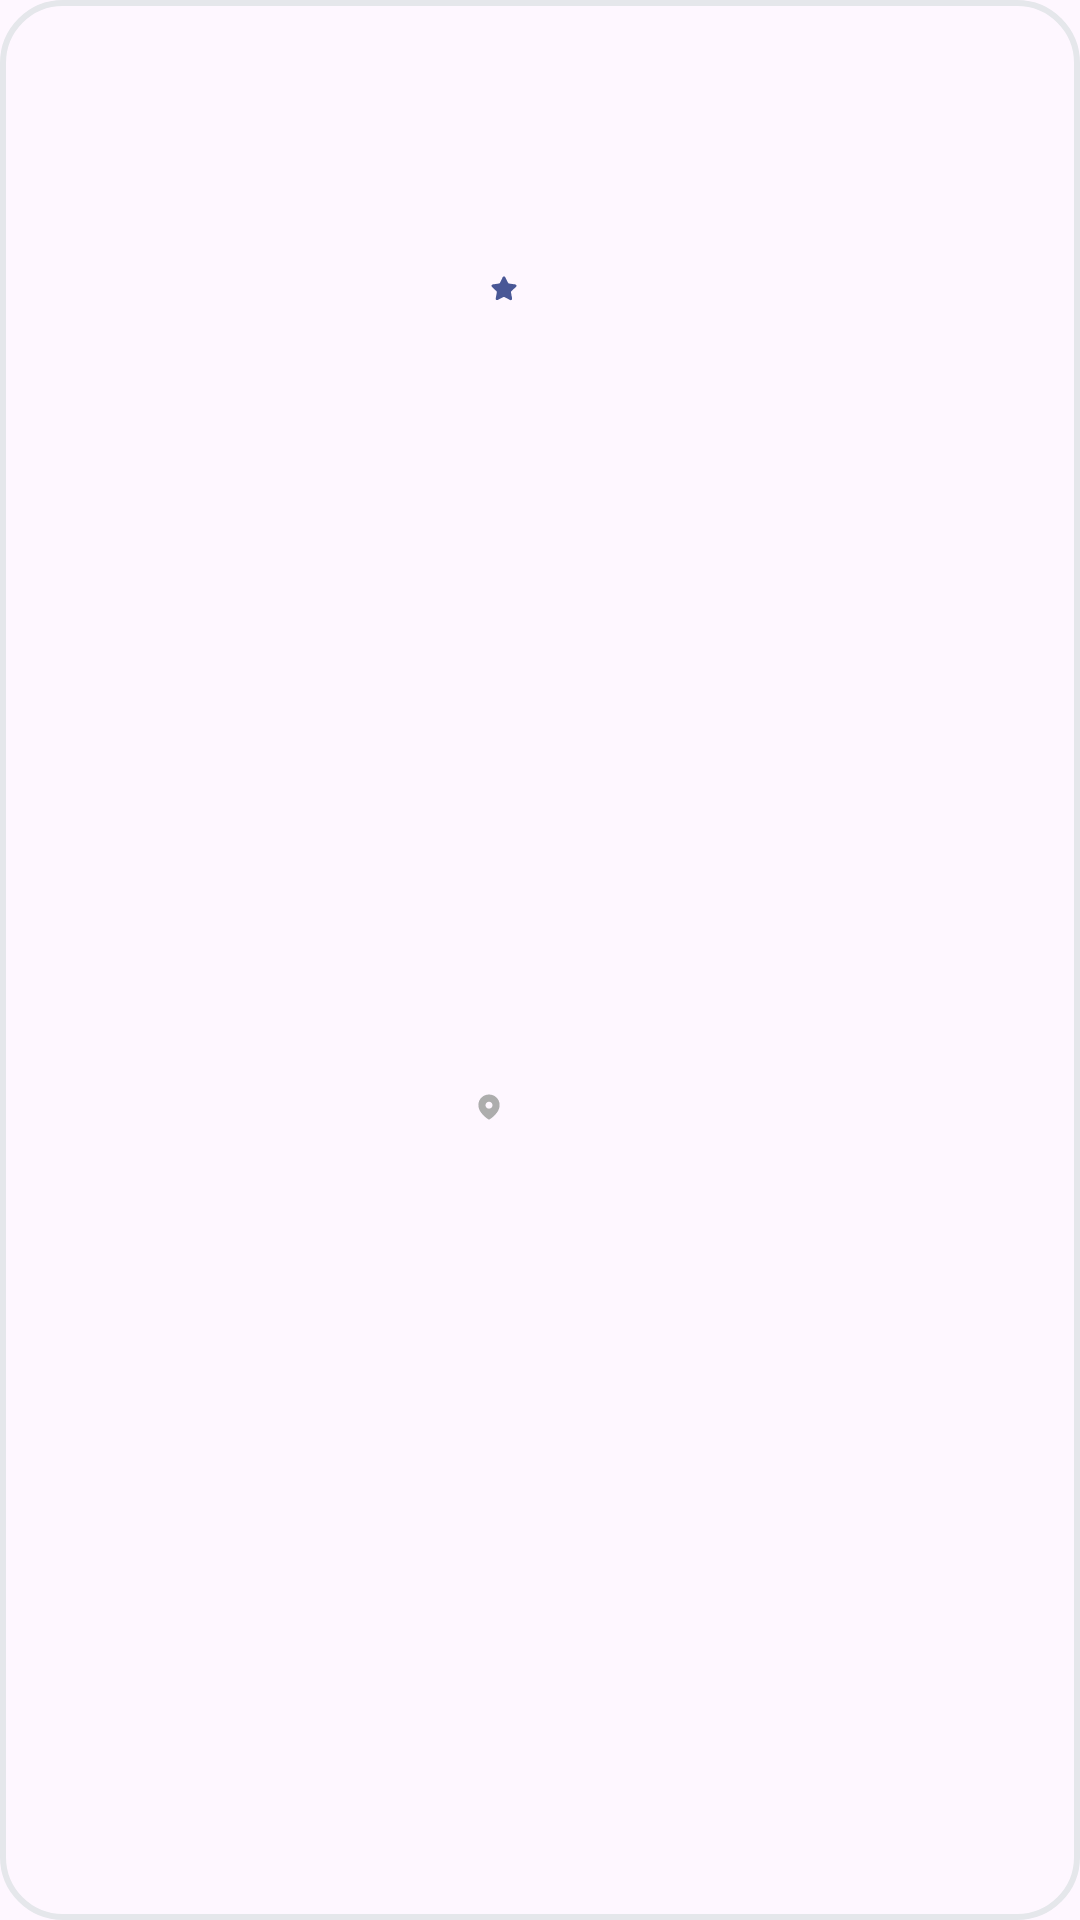

Locate icon controls on the screen. Image size 1080×1920, boxes as (x1=x1, y1=y1, x2=x2, y2=y2).
location: (x1=478, y1=1094, x2=500, y2=1120)
star: (x1=491, y1=276, x2=517, y2=300)
